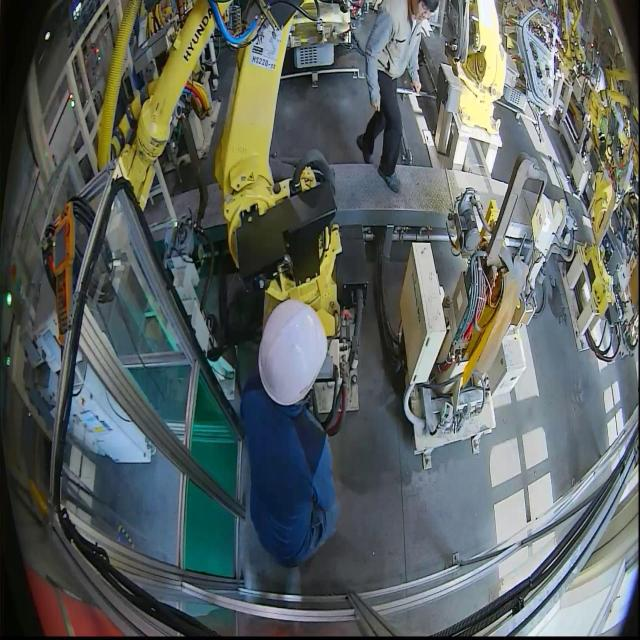Person: (239, 299, 341, 569), (356, 0, 436, 193)
